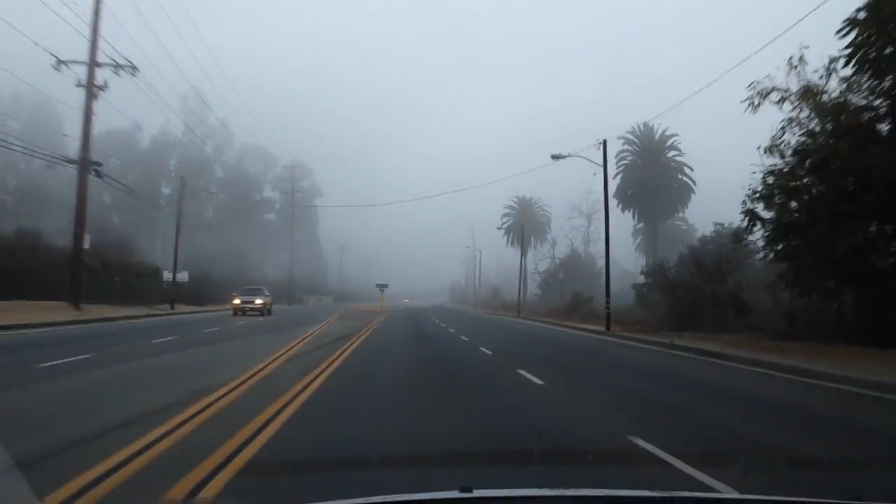car: (231, 287, 273, 317), (402, 297, 412, 305)
